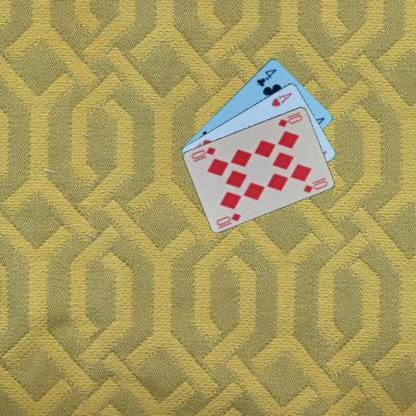10d: (275, 109, 304, 128), (214, 210, 243, 226)
4c: (254, 66, 278, 88)
Ah: (269, 90, 294, 107)
